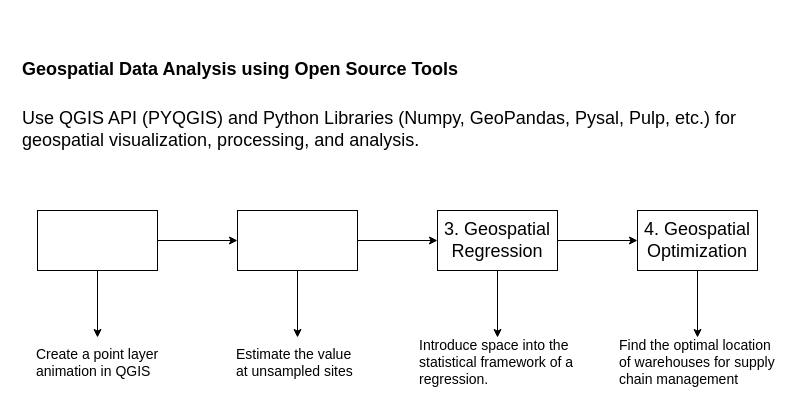
Some shapes in this 809 by 418 pixel diagram are drawn without their labels. Here are the shapes that lost their labels. From the top down, the centre of each, then its label:
At point 97,240: "1. Geospatial Visualization".
At point 297,240: "2. Geospatial Interpolation".
